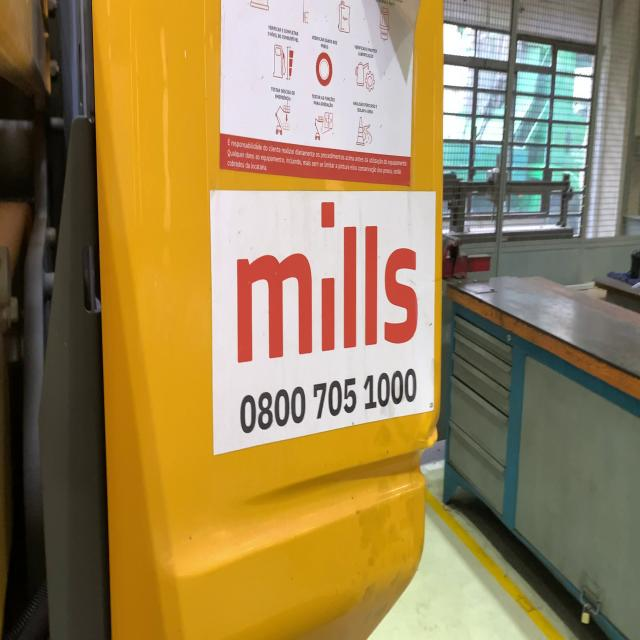Adesivos: (208, 188, 437, 462)
